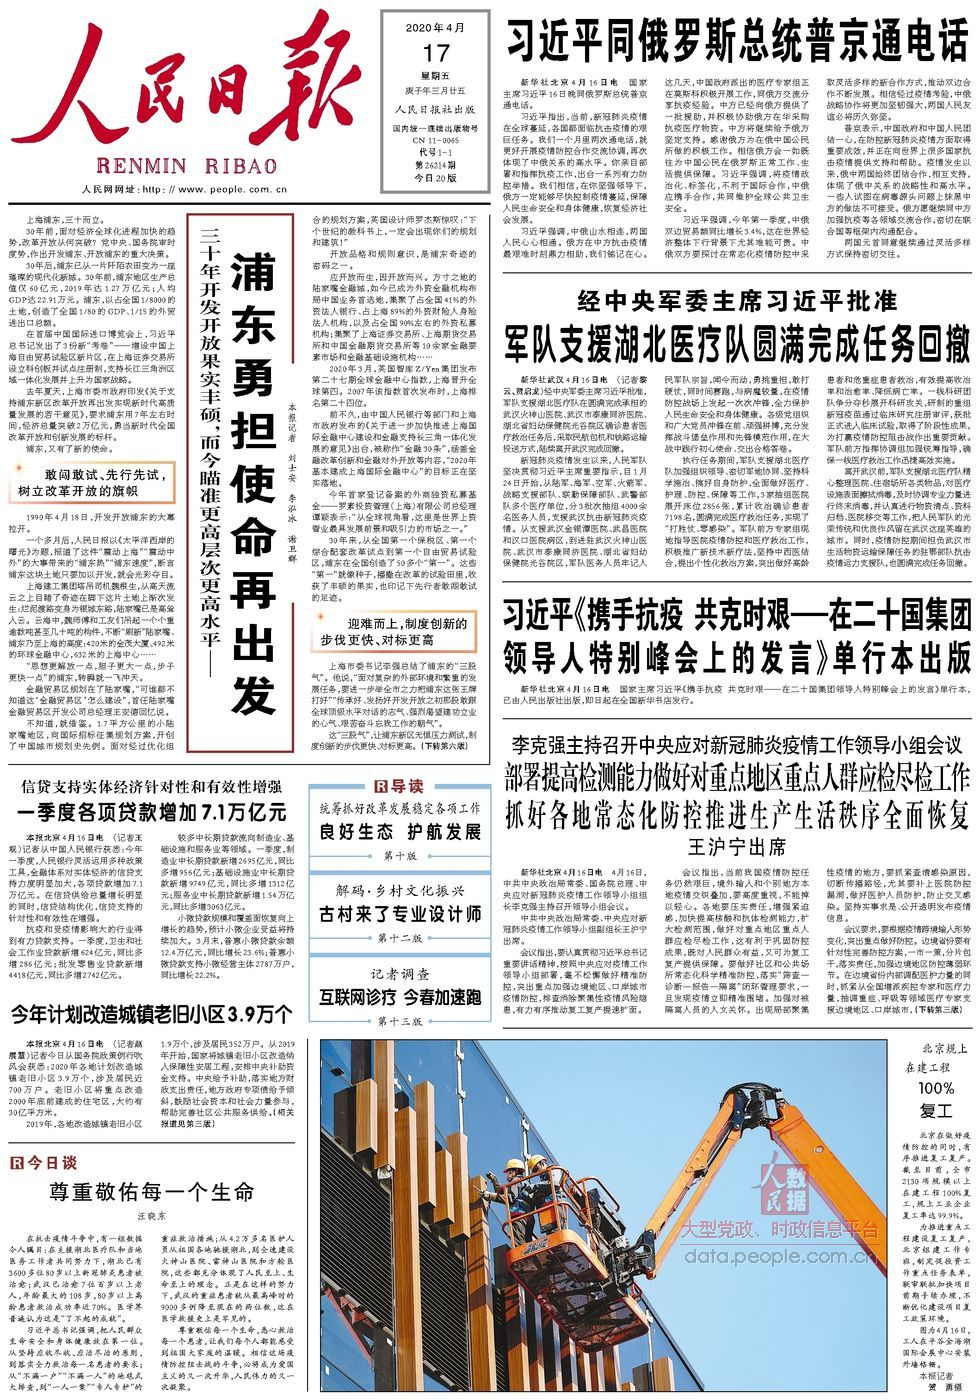pic: (315, 1035, 893, 1397)
